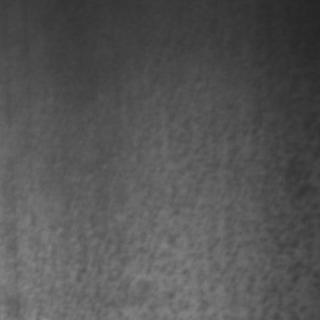pitted_surface: (53, 75, 317, 315)
